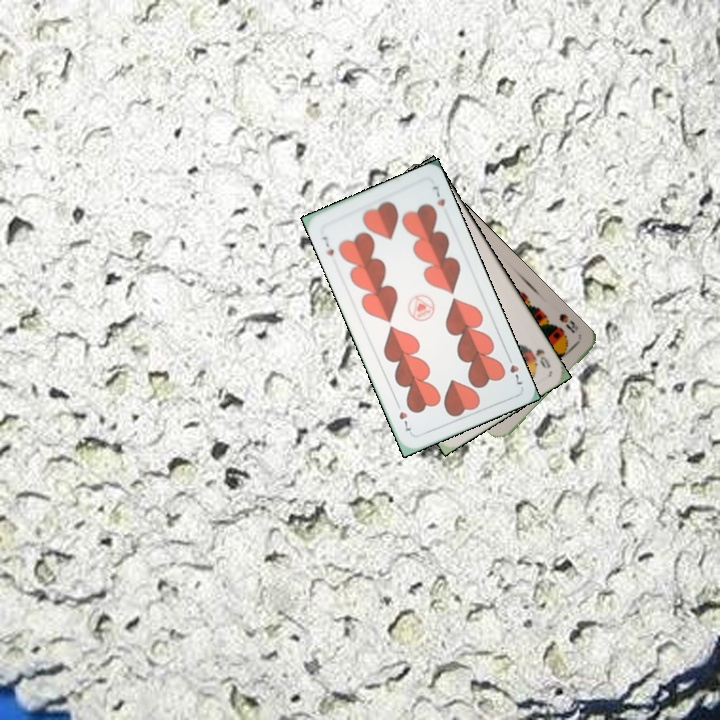H7: (503, 350, 526, 387), (318, 232, 337, 258)
S8: (555, 309, 581, 336)
SO: (525, 344, 553, 371)
